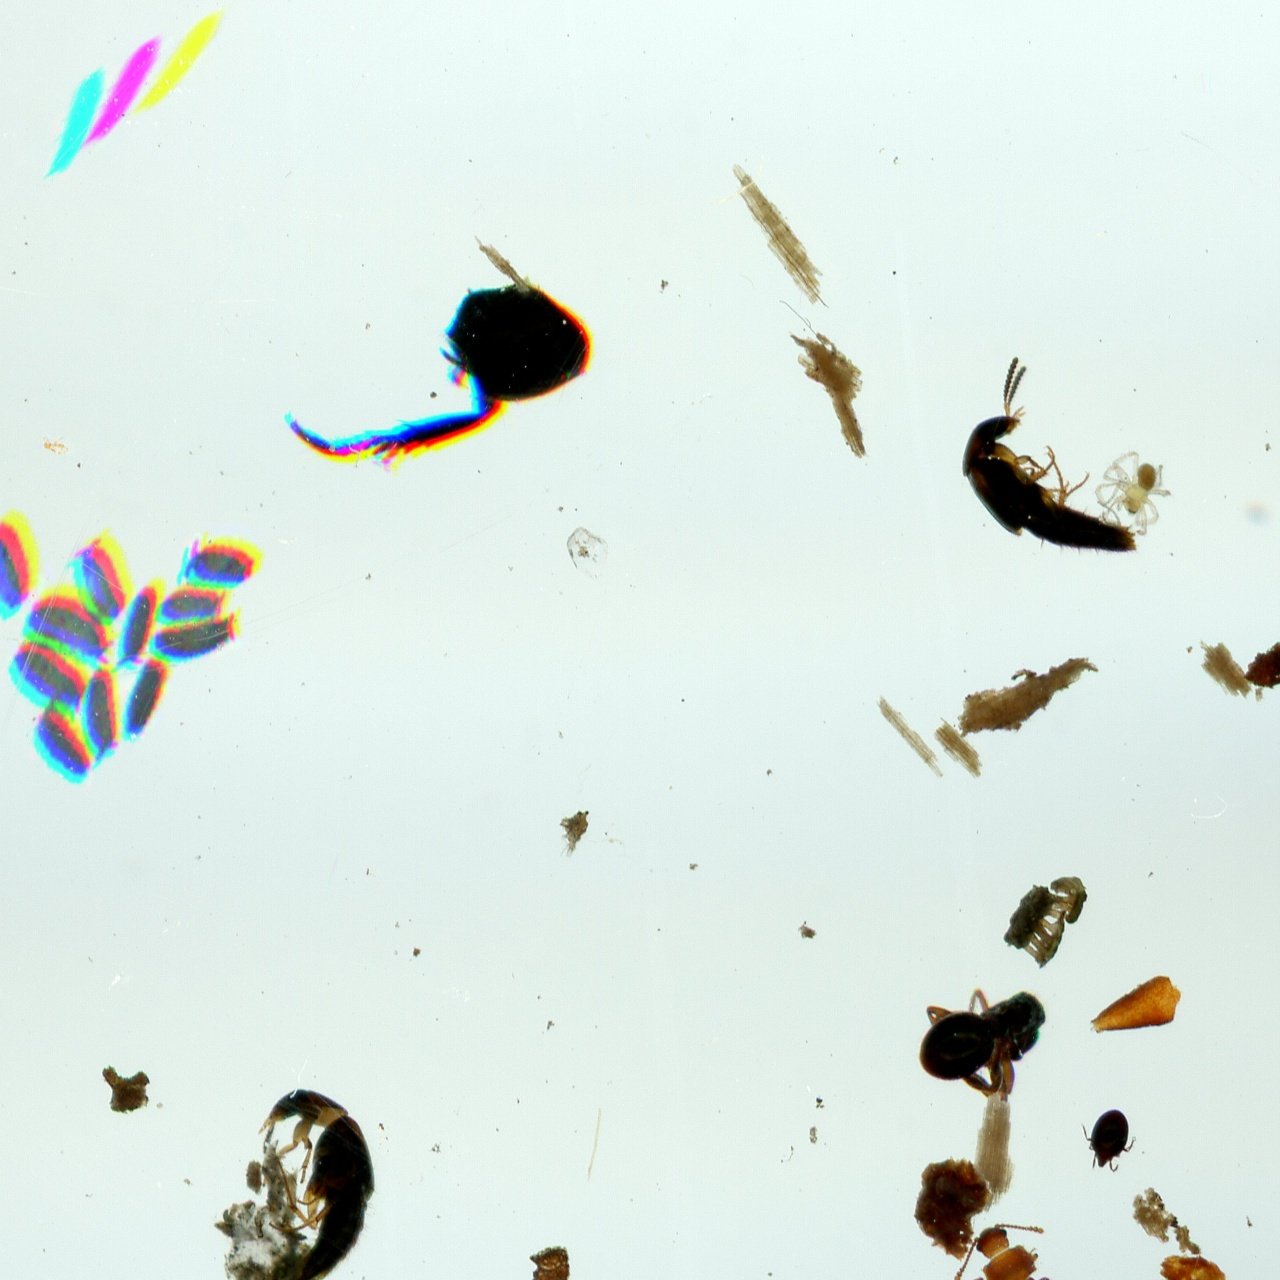arthropod: (917, 345, 1148, 613), (893, 958, 1078, 1131), (256, 1081, 379, 1280), (937, 1201, 1111, 1280), (21, 580, 128, 672), (0, 627, 104, 720), (1091, 445, 1173, 539), (21, 699, 101, 788), (63, 531, 137, 626), (115, 652, 175, 748), (0, 511, 49, 614), (151, 614, 241, 665), (1080, 1105, 1139, 1175), (181, 539, 253, 587), (84, 661, 120, 757), (125, 571, 155, 651), (157, 587, 223, 622)
